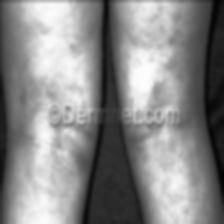Non-Cancerous Skin Condition: (147, 78, 191, 108), (22, 80, 46, 134)
